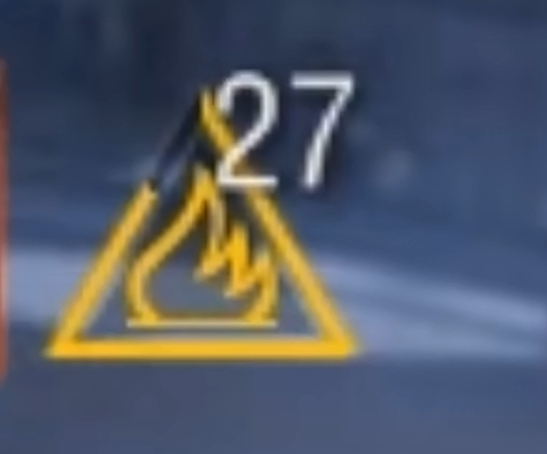1fire: (37, 211, 360, 366)
